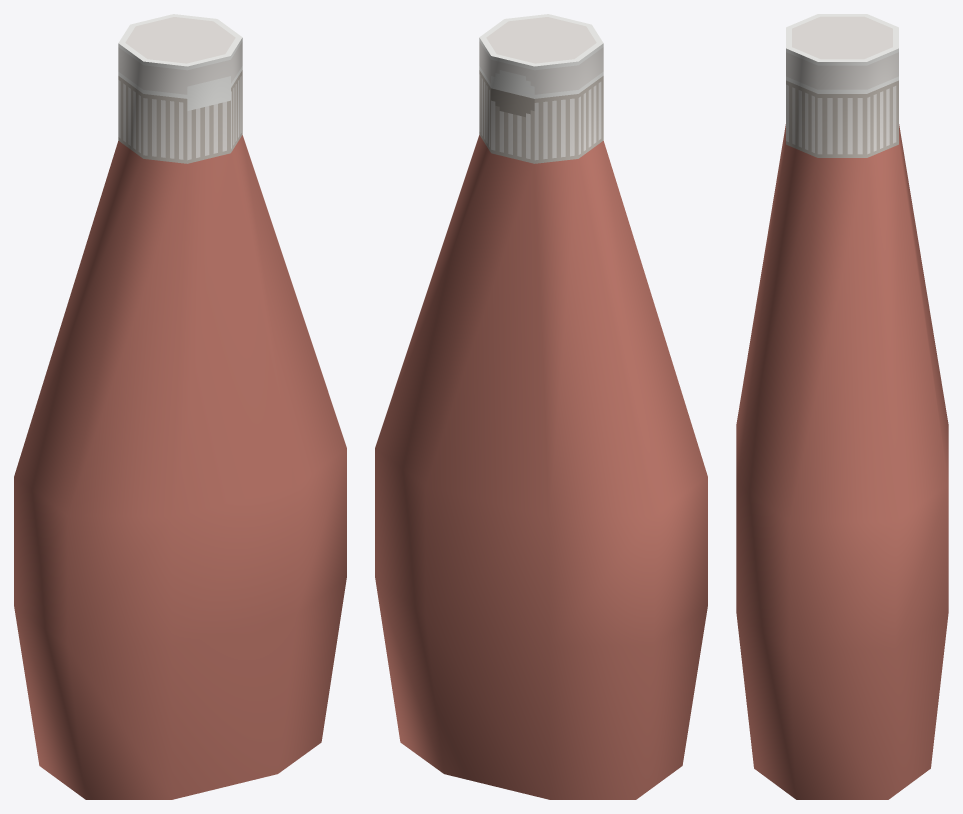
File: 048b_Ketchup.glb
3 renders of one model, left to right at view 1: azimuth 30°, elevation 25°; view 2: azimuth 150°, elevation 25°; view 3: azimuth 270°, elevation 25°, orthographic.
Parts seen in each view (by area): view 1: part_0; view 2: part_0; view 3: part_0.
Boxes of the visible parts, box(x1,y1,x2,y2) form: part_0: box(14, 14, 346, 799); part_0: box(375, 14, 707, 799); part_0: box(736, 14, 948, 799).
Size of the model in its own units: 0.09 by 0.22 by 0.06.
1 material, 1 textured.
